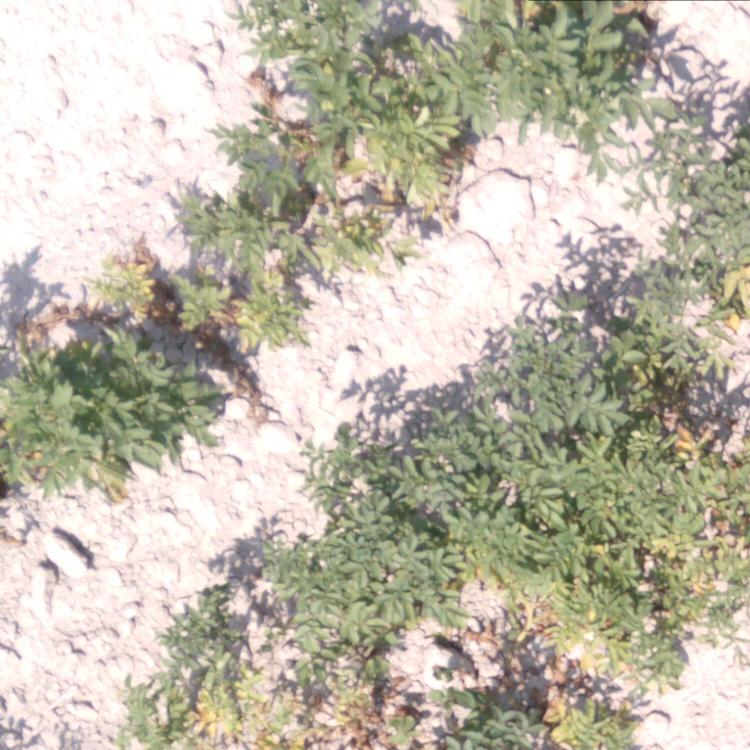healthy: (21, 344, 215, 474), (226, 521, 454, 630), (388, 410, 624, 515), (457, 14, 621, 133), (489, 295, 621, 392)
stressed: (121, 639, 465, 740), (269, 1, 446, 196), (476, 556, 639, 749), (114, 200, 308, 332), (644, 387, 750, 608), (671, 142, 750, 303)
